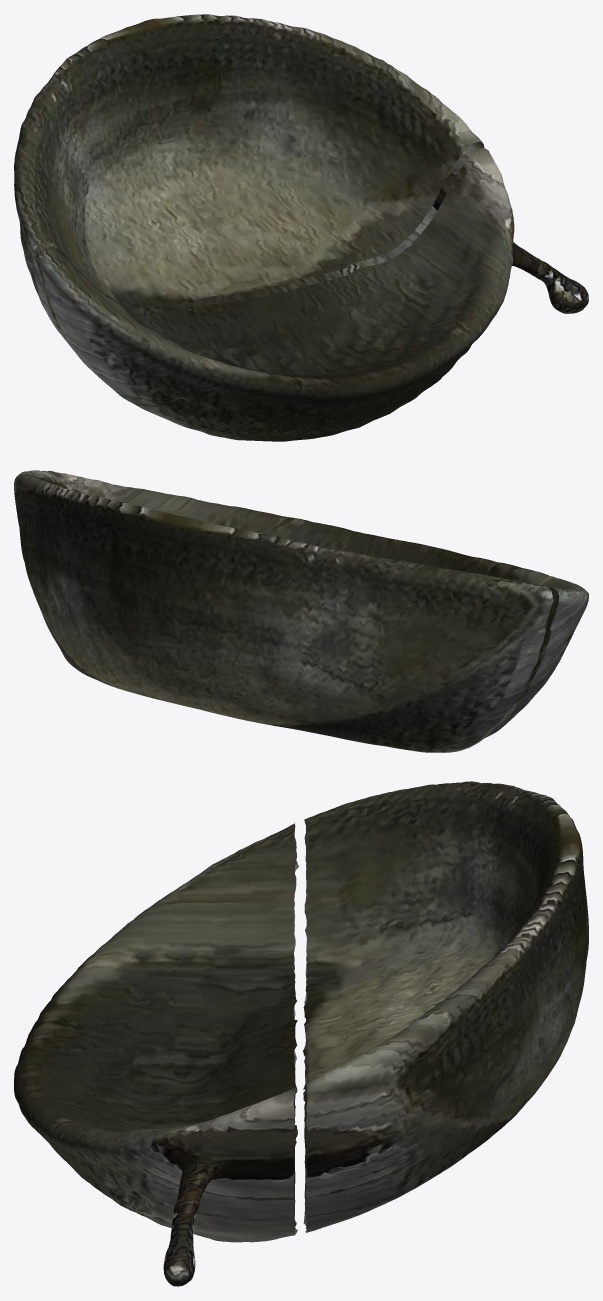
The model's file is kfl-2255.glb.
3 views of the same model, one above another, from view 1: azimuth 30°, elevation 25°; view 2: azimuth 150°, elevation 25°; view 3: azimuth 270°, elevation 25° (orthographic). The views are drawn at different scales.
Visible parts, largest first — view 1: geometry_0; view 2: geometry_0; view 3: geometry_0.
Boxes of the visible parts, <box> form: geometry_0: <box>14,14,588,441</box>; geometry_0: <box>14,470,588,752</box>; geometry_0: <box>14,781,588,1286</box>.
Bounding box in the file's own units: 0.9899 × 0.5599 × 0.8102.
Materials: 1 (1 with a texture image).
